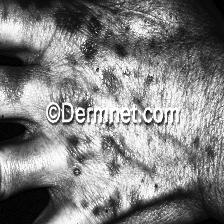Benign Marking or Mole: (53, 5, 183, 92), (60, 134, 167, 220), (186, 123, 224, 179)
